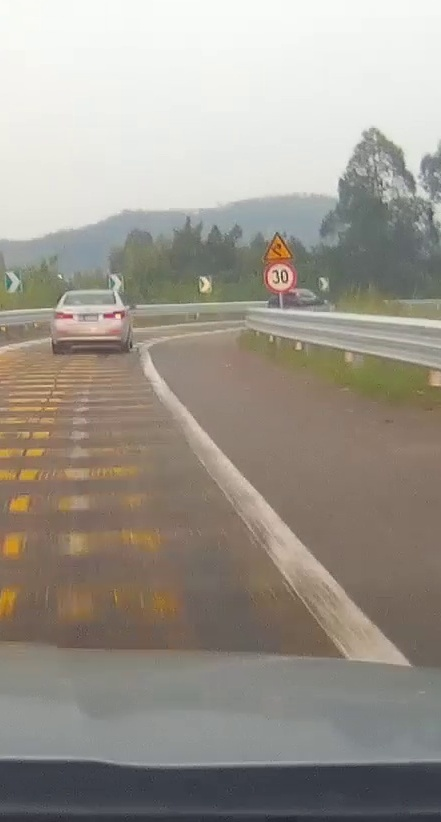L_light: (52, 310, 74, 318)
R_light: (103, 311, 125, 319)
T_light: (83, 294, 99, 296)
day-right: (50, 289, 127, 352)
